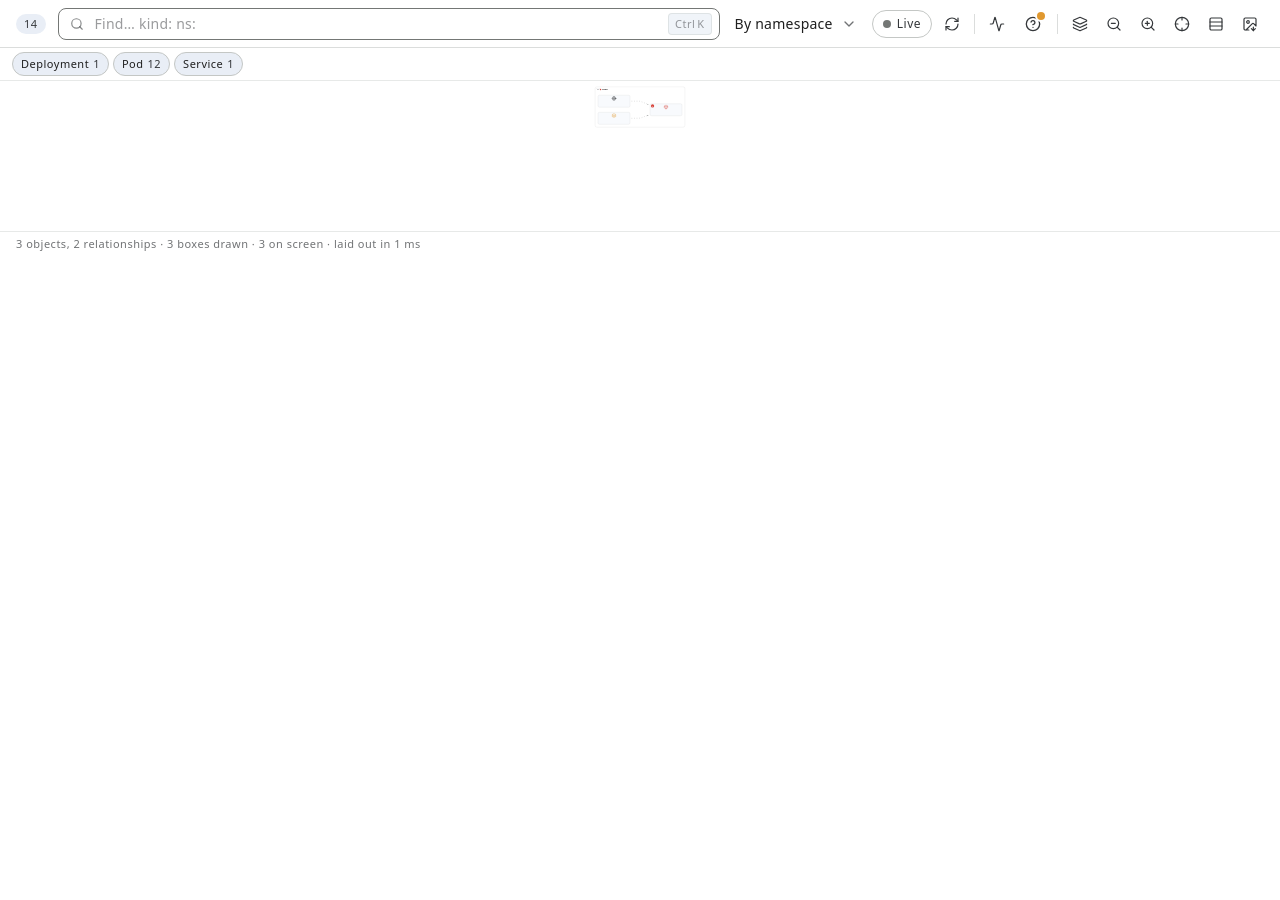
Test: the applications menu, like every other dropdown › turns its chevron when open, and puts focus in the app search field
The image size is (1280, 900).
What coordinates should you click on to do the following:
click the button "By namespace"
I would click on:
 (796, 24)
Its box is [726, 8, 866, 40].
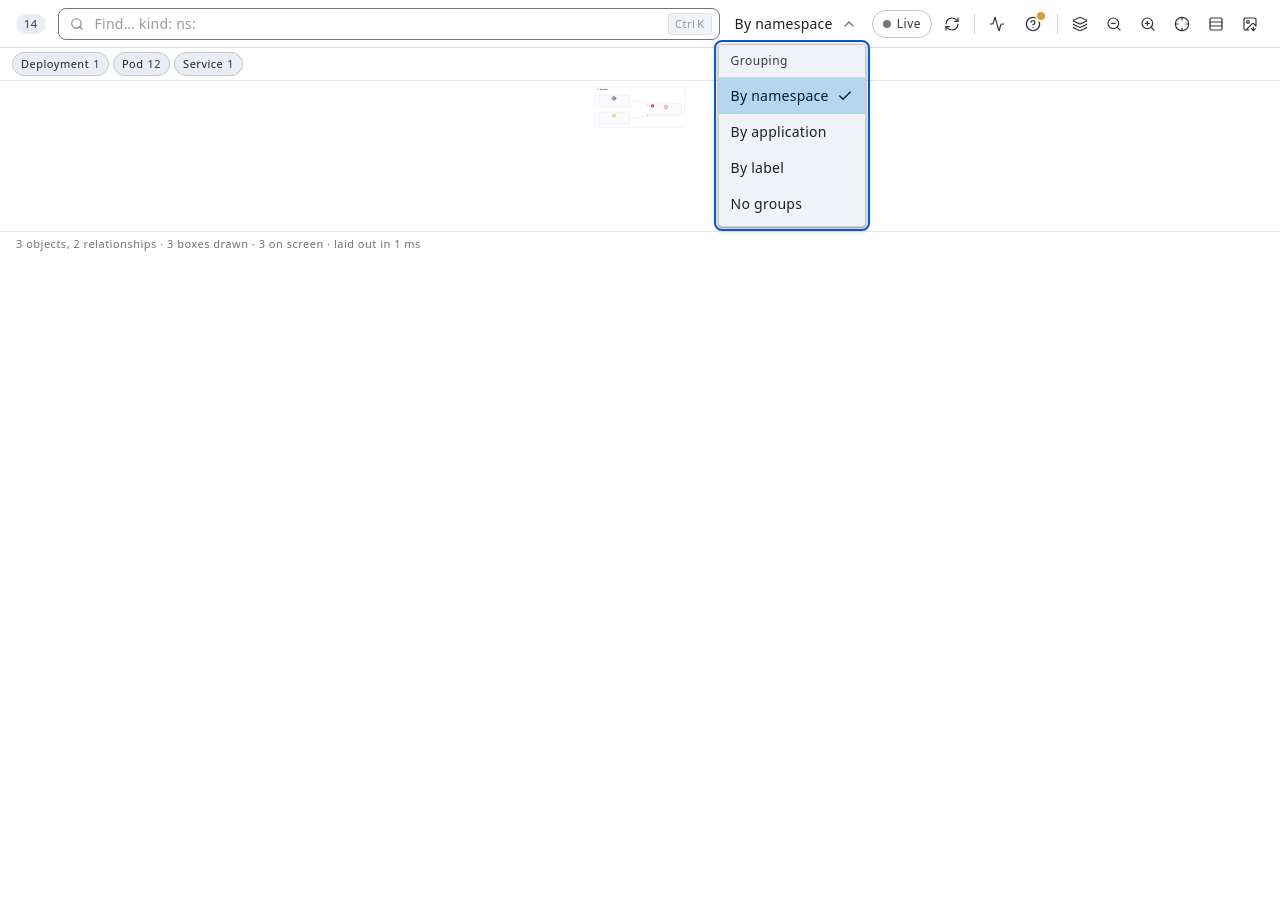
What coordinates should you click on to do the following:
click the option "By application"
I would click on:
 (792, 132)
Its box is [719, 114, 865, 150].
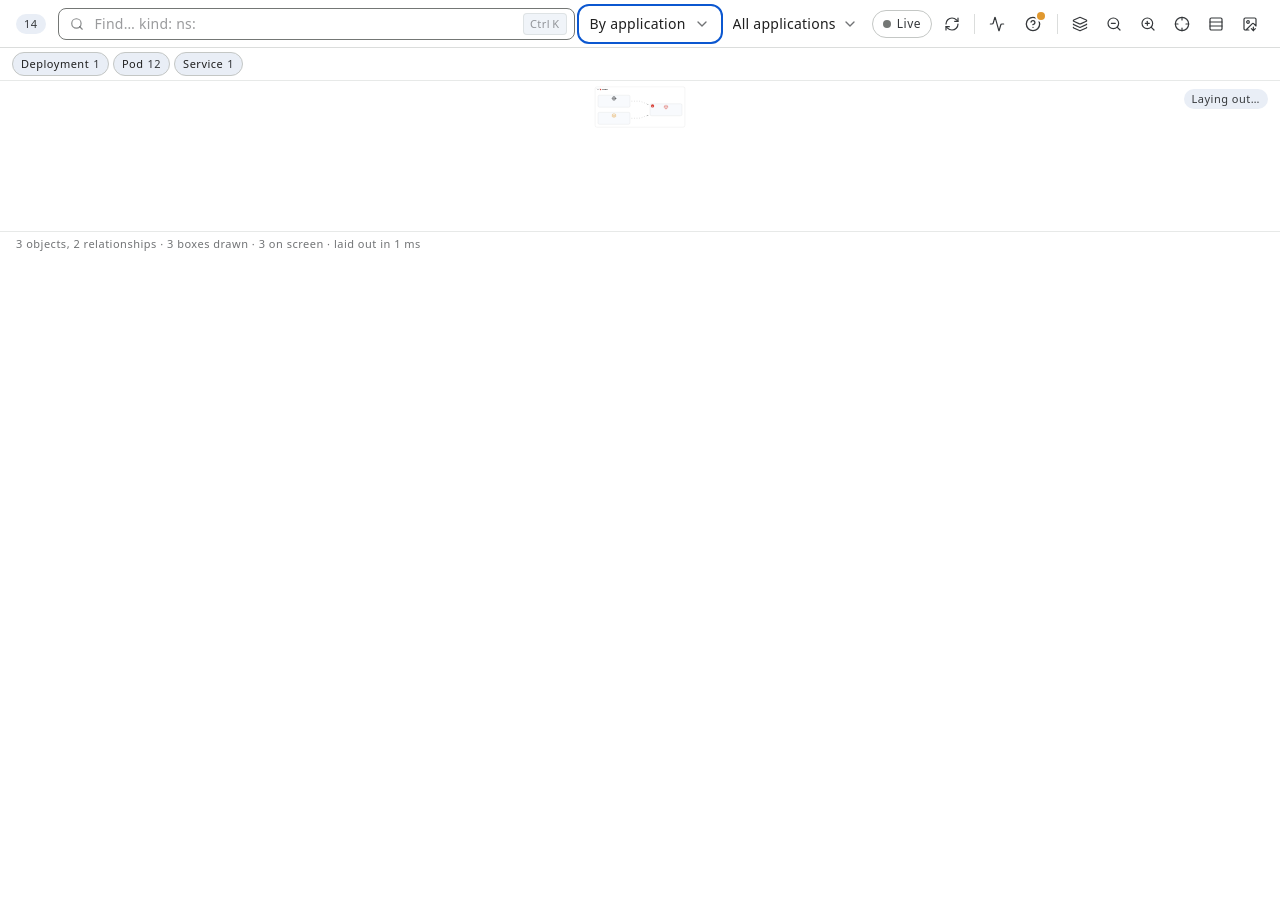
What coordinates should you click on to do the following:
click the button "All applications"
I would click on:
 (795, 24)
Its box is [725, 8, 866, 40].
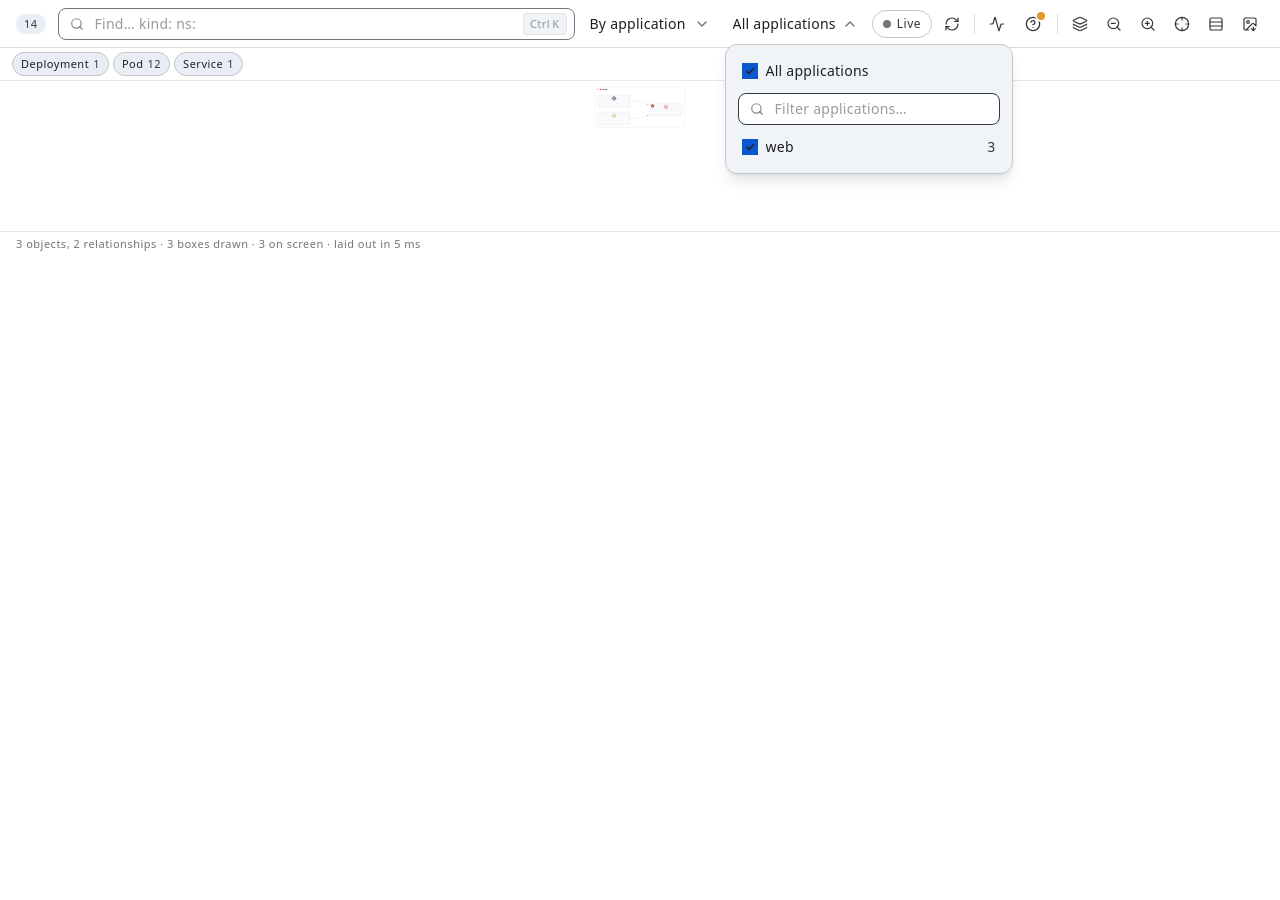
Expected: the field labelled "Filter applications" does not show "K"
Expected: the button "All applications" is expanded, [725, 8, 866, 40]
